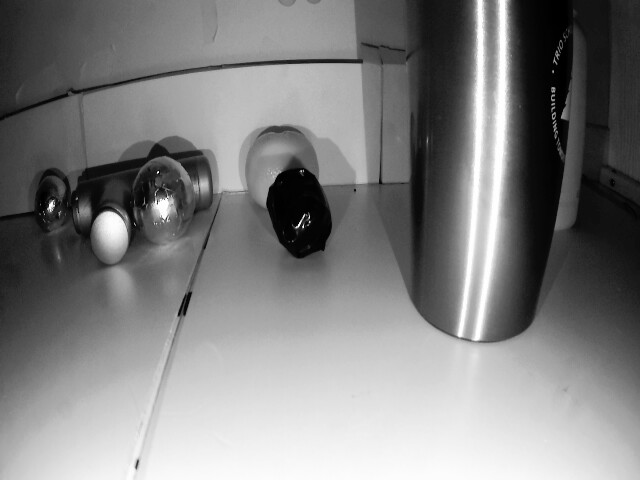black: (268, 165, 337, 264)
silver: (131, 157, 194, 244), (35, 171, 70, 229)
